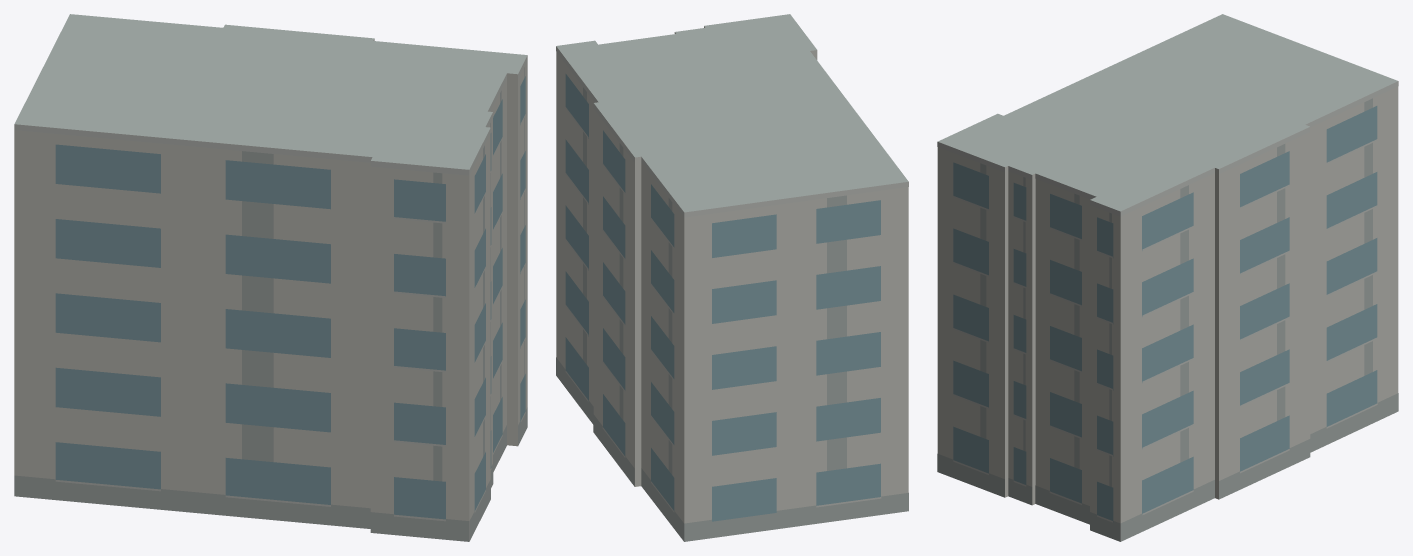
File: survey-upis-32914475.glb
3 renders of one model, left to right at view 1: azimuth 30°, elevation 25°; view 2: azimuth 150°, elevation 25°; view 3: azimuth 270°, elevation 25°, orthographic. The views are drawn at different scales.
Visible parts, largest first — view 1: survey-upis-32914475.tmp; view 2: survey-upis-32914475.tmp; view 3: survey-upis-32914475.tmp.
Part boxes in pixels (left/top/right/bottom): survey-upis-32914475.tmp: left=14, top=14, right=527, bottom=541; survey-upis-32914475.tmp: left=556, top=14, right=908, bottom=541; survey-upis-32914475.tmp: left=937, top=14, right=1398, bottom=541.
Size of the model in its own units: 19.56 by 15.25 by 19.29.
